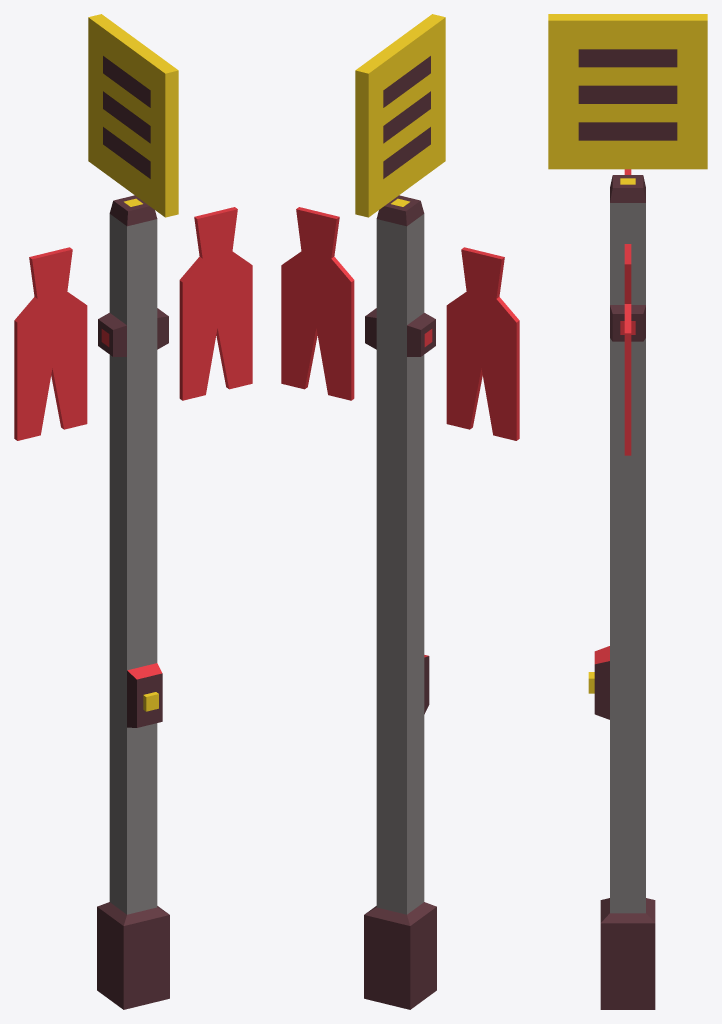
File: scifi-scifi-crossing-sign-stop.glb
3 views of the same model, side by side, from view 1: azimuth 30°, elevation 25°; view 2: azimuth 150°, elevation 25°; view 3: azimuth 270°, elevation 25° (orthographic). The views are drawn at different scales.
Parts seen in each view (by area): view 1: scifi-crossing-sign-stop; view 2: scifi-crossing-sign-stop; view 3: scifi-crossing-sign-stop.
Boxes of the visible parts, x1,y1,x2,y2 form: scifi-crossing-sign-stop: (14,14,252,1009); scifi-crossing-sign-stop: (281,14,519,1009); scifi-crossing-sign-stop: (548,14,707,1009).
Bounding box in the file's own units: 0.8803 × 3.4 × 0.5001.
